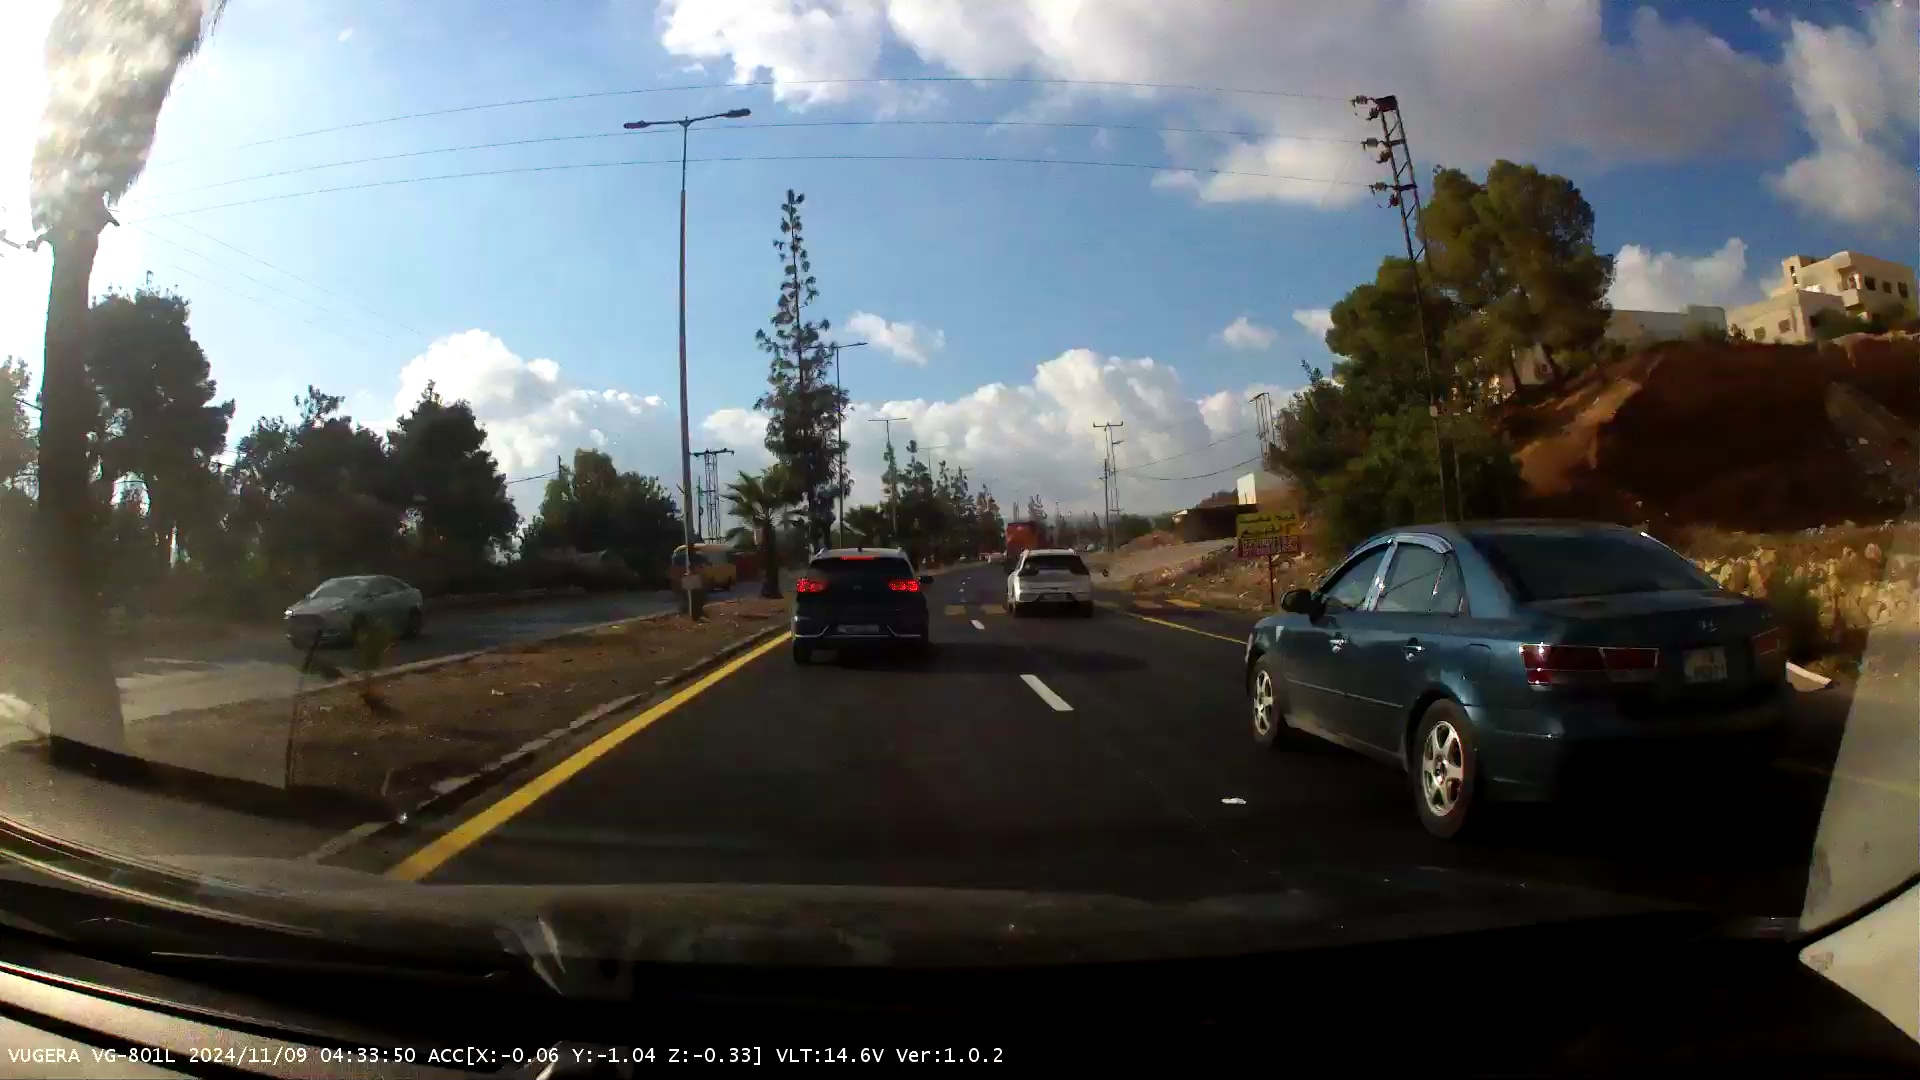vehicle: (1245, 517, 1793, 833), (793, 549, 928, 665), (284, 575, 423, 647), (1006, 546, 1091, 618), (671, 543, 735, 591)
